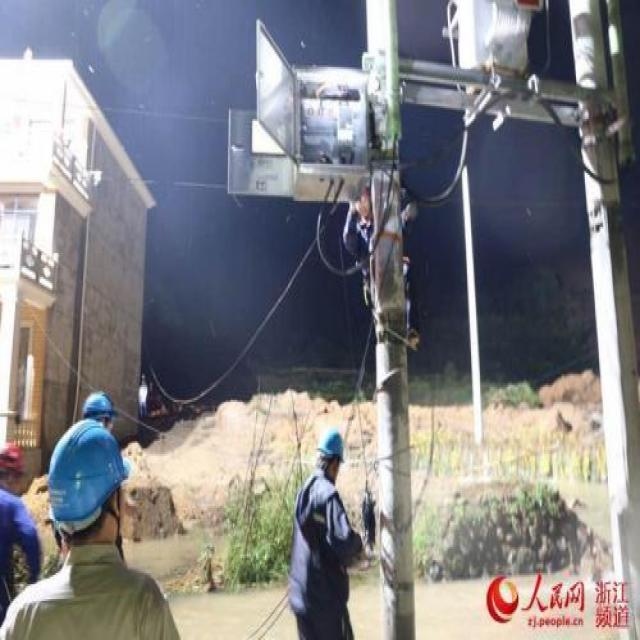hat: (54, 413, 128, 558), (316, 420, 346, 482), (85, 389, 120, 439), (1, 437, 25, 501)
